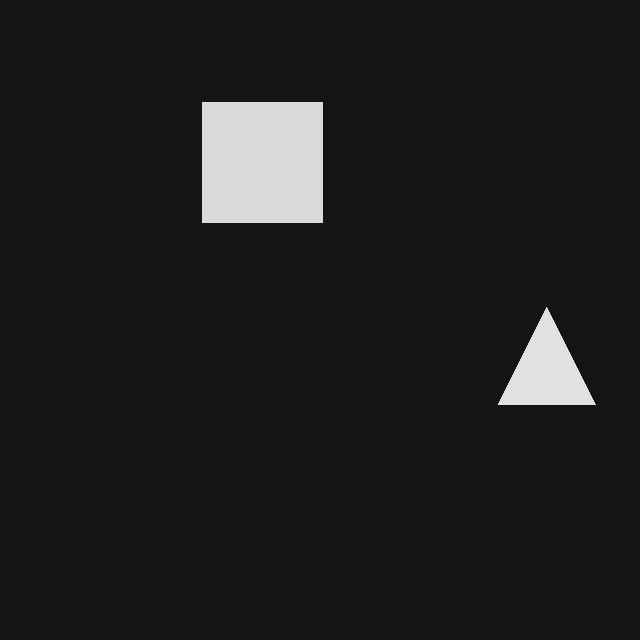square: (202, 102, 322, 222)
triangle: (498, 307, 595, 404)
